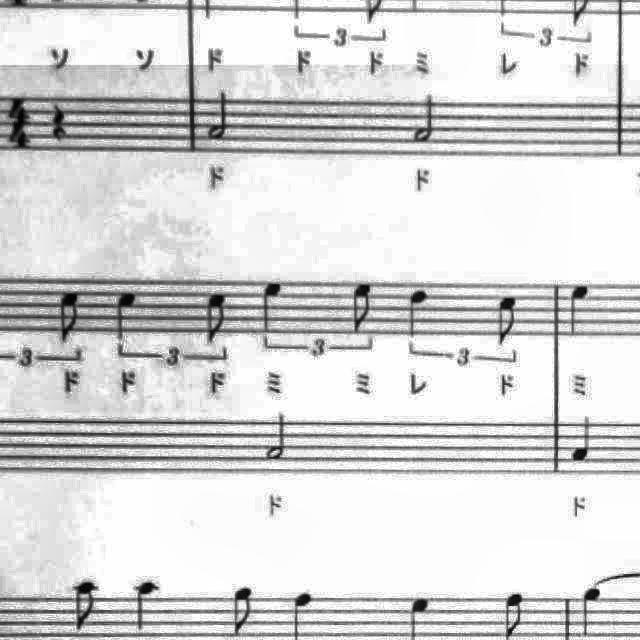Eighth-note: (344, 278, 381, 342), (53, 286, 89, 350), (200, 286, 237, 348), (67, 576, 105, 636), (223, 578, 260, 638), (488, 290, 524, 350), (495, 588, 533, 640)
Half-note: (407, 86, 445, 146), (202, 84, 238, 144), (260, 408, 296, 466)
Quarter-note: (127, 574, 167, 636), (253, 276, 290, 340), (560, 278, 596, 342), (400, 282, 436, 344), (108, 286, 144, 346), (282, 587, 321, 640), (575, 583, 609, 640), (401, 591, 439, 640), (566, 409, 598, 466)
Quarter-rest: (44, 96, 76, 150)
